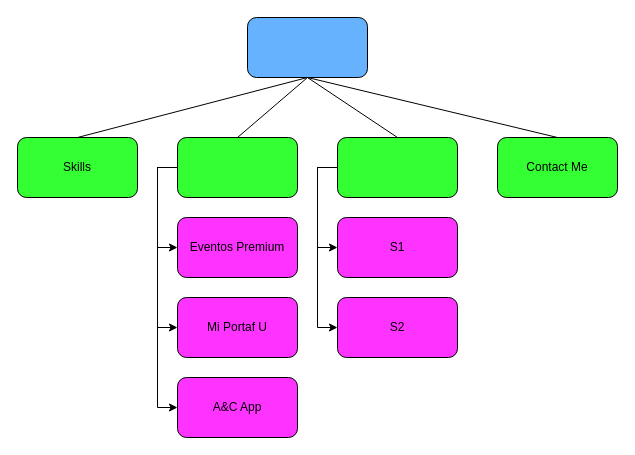
Some shapes in this 635 by 455 pixel diagram are drawn without their labels. The shapes that lost their labels are listed below. From the top down, each one's box as (x1, y1, x2, y2) in pixels, then its label:
(246, 16, 368, 78): Home
(176, 136, 298, 198): Portfolio
(336, 136, 458, 198): Blog
